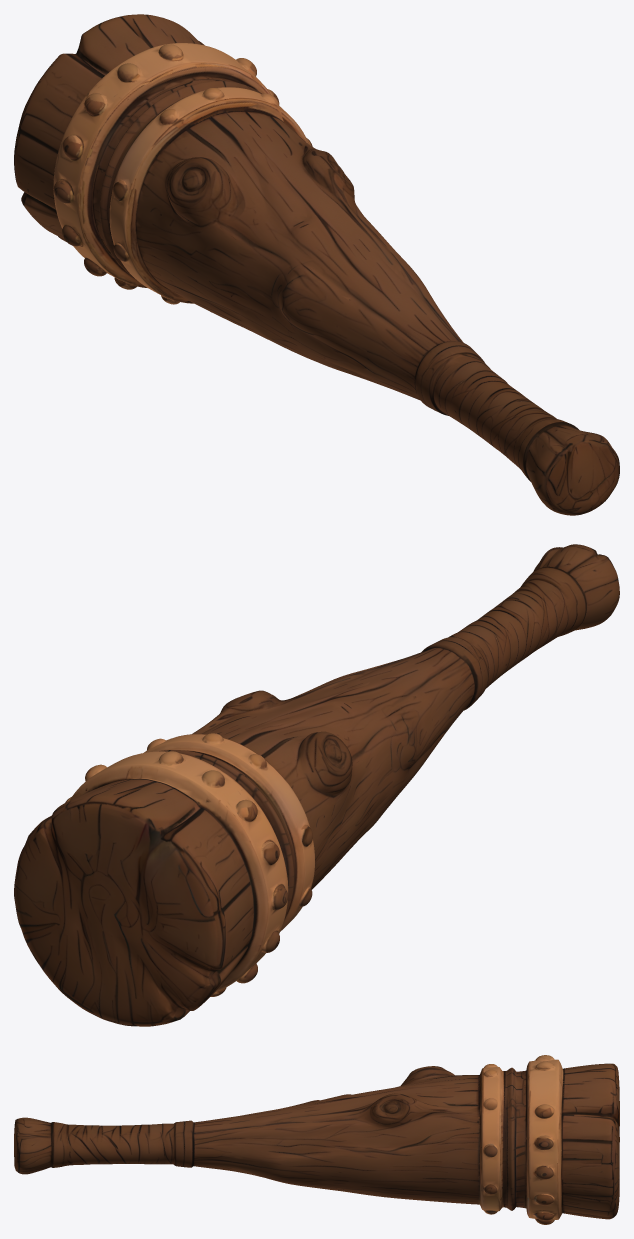
File: prop_club.glb
The picture shows the model from 3 angles, top to bottom: view 1: azimuth 30°, elevation 25°; view 2: azimuth 150°, elevation 25°; view 3: azimuth 270°, elevation 25°; orthographic projection. The views are drawn at different scales.
Visible parts, largest first — view 1: material; view 2: material; view 3: material.
Part boxes in pixels (x1=…): material: x1=14, y1=14, x2=619, y2=515; material: x1=14, y1=544, x2=619, y2=1026; material: x1=14, y1=1055, x2=619, y2=1224.
Size of the model in its own units: 0.3274 by 0.3292 by 1.17.
Materials: 1 (1 with a texture image).
